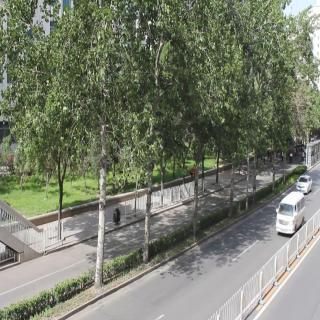Car: (274, 188, 308, 236), (295, 169, 313, 195)
